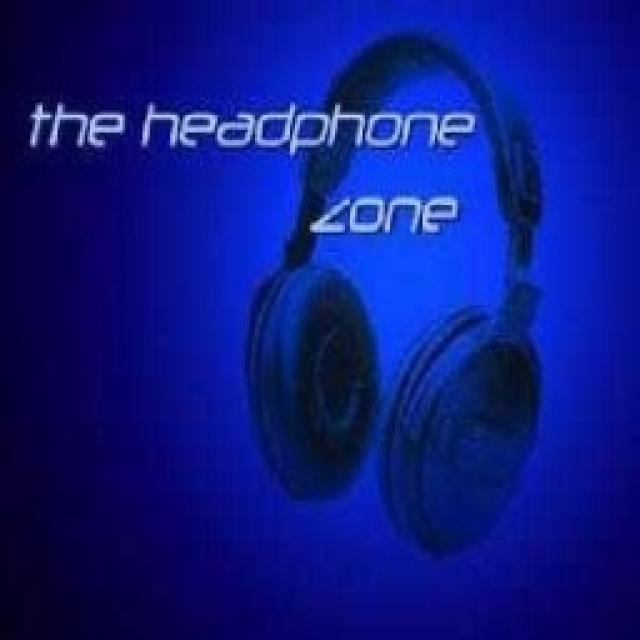kulaklik: (238, 14, 572, 582)
